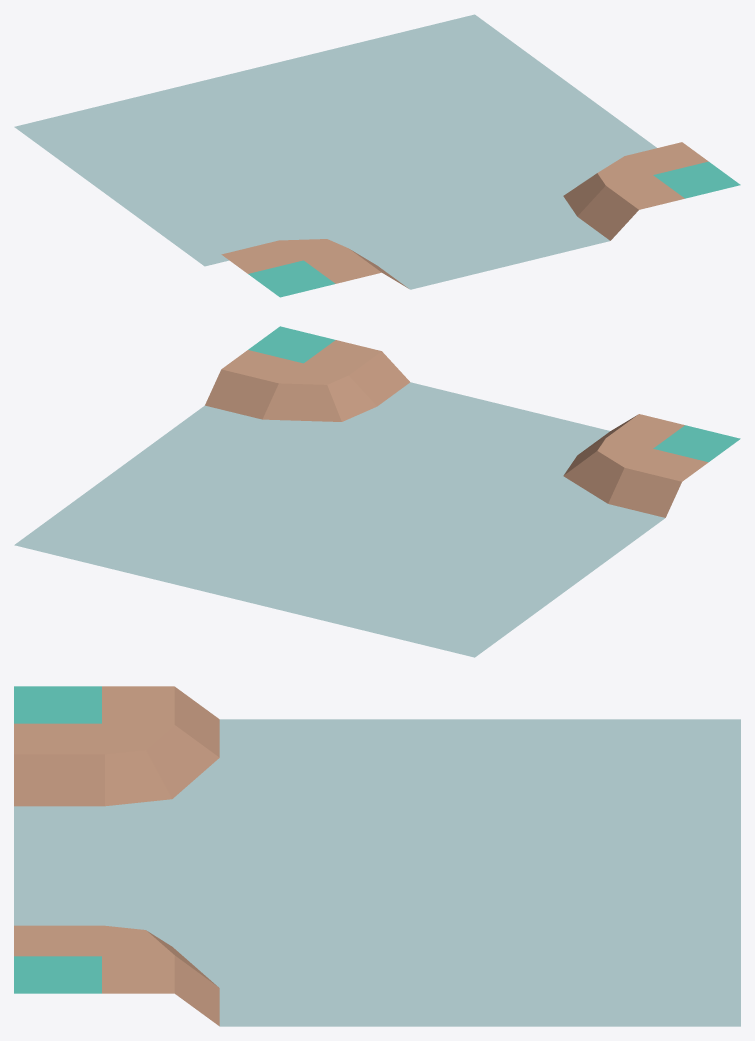
File: ground_riverSideOpen.glb
The picture shows the model from 3 angles, top to bottom: view 1: azimuth 30°, elevation 25°; view 2: azimuth 150°, elevation 25°; view 3: azimuth 270°, elevation 25°; orthographic projection. The views are drawn at different scales.
Visible parts, largest first — view 1: ground_riverSideOpen; view 2: ground_riverSideOpen; view 3: ground_riverSideOpen.
Part boxes in pixels (bbox=[...]): ground_riverSideOpen: bbox=[14, 14, 740, 297]; ground_riverSideOpen: bbox=[14, 326, 740, 657]; ground_riverSideOpen: bbox=[14, 686, 740, 1026].
Size of the model in its own units: 1 by 0.05 by 1.
